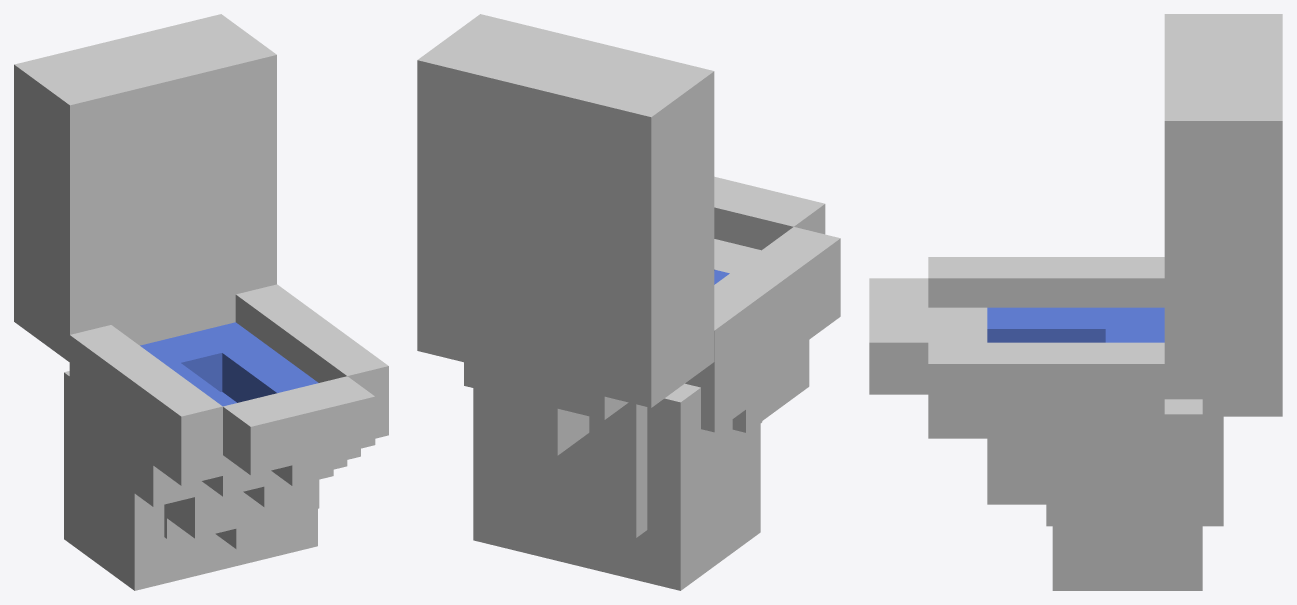
Rendered from toilet.fbx.
3 renders of one model, left to right at view 1: azimuth 30°, elevation 25°; view 2: azimuth 150°, elevation 25°; view 3: azimuth 270°, elevation 25°, orthographic. The views are drawn at different scales.
Visible parts, largest first — view 1: tilet; view 2: tilet; view 3: tilet.
Part boxes in pixels (x1=…): tilet: x1=14, y1=14, x2=388, y2=590; tilet: x1=417, y1=14, x2=840, y2=590; tilet: x1=869, y1=14, x2=1282, y2=590.
Bounding box in the file's own units: 0.5209 × 1.08 × 0.8491.
